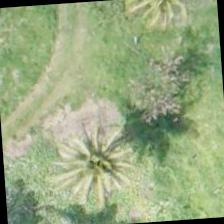Kelapa_Sawit: (47, 119, 143, 216)
